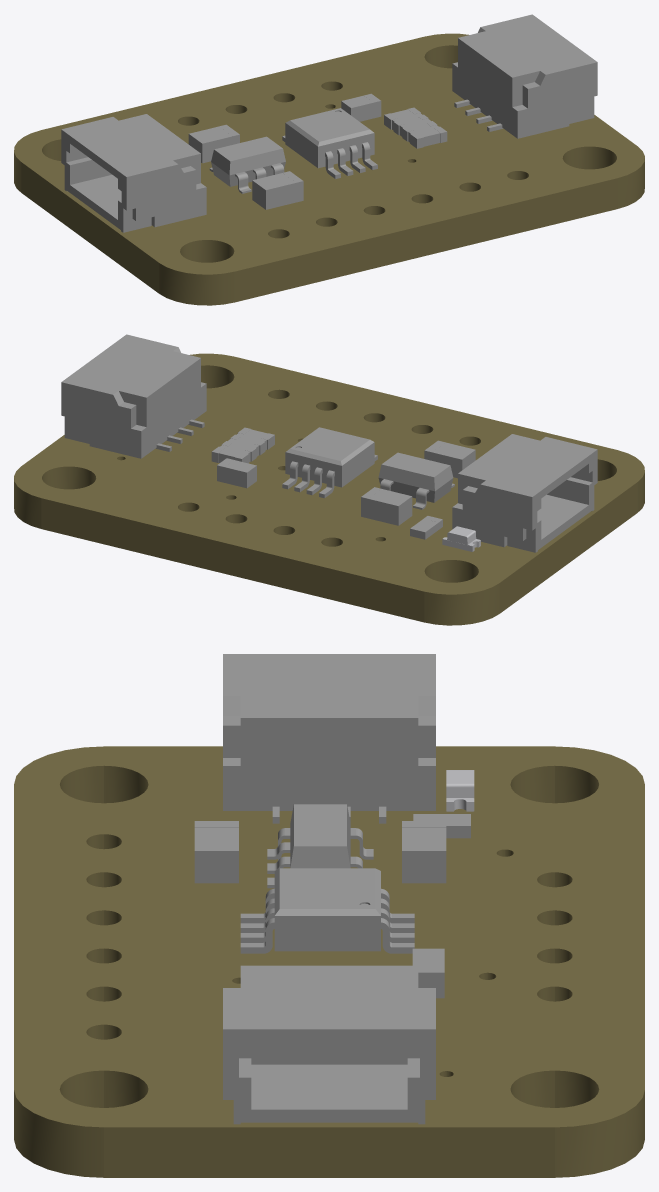
The model's file is ada-4808.glb.
3 views of the same model, one above another, from view 1: azimuth 30°, elevation 25°; view 2: azimuth 150°, elevation 25°; view 3: azimuth 270°, elevation 25° (orthographic). The views are drawn at different scales.
Visible parts, largest first — view 1: 0.16666666666666666_0.16666666666666666_0.08333333333333333_, 0.3333333333333333_0.3333333333333333_0.3333333333333333_0; view 2: 0.16666666666666666_0.16666666666666666_0.08333333333333333_, 0.3333333333333333_0.3333333333333333_0.3333333333333333_0, 0.5833333333333334_0.5833333333333334_0.5833333333333334_0.8; view 3: 0.16666666666666666_0.16666666666666666_0.08333333333333333_, 0.3333333333333333_0.3333333333333333_0.3333333333333333_0, 0.5833333333333334_0.5833333333333334_0.5833333333333334_0.8.
Part boxes in pixels (x1=…): 0.16666666666666666_0.16666666666666666_0.08333333333333333_: x1=14, y1=33, x2=644, y2=305; 0.3333333333333333_0.3333333333333333_0.3333333333333333_0: x1=61, y1=14, x2=597, y2=232; 0.16666666666666666_0.16666666666666666_0.08333333333333333_: x1=14, y1=353, x2=644, y2=625; 0.3333333333333333_0.3333333333333333_0.3333333333333333_0: x1=61, y1=334, x2=597, y2=552; 0.5833333333333334_0.5833333333333334_0.5833333333333334_0.8: x1=442, y1=526, x2=480, y2=551; 0.16666666666666666_0.16666666666666666_0.08333333333333333_: x1=14, y1=746, x2=644, y2=1177; 0.3333333333333333_0.3333333333333333_0.3333333333333333_0: x1=194, y1=654, x2=470, y2=1124; 0.5833333333333334_0.5833333333333334_0.5833333333333334_0.8: x1=446, y1=770, x2=474, y2=811.
Size of the model in its own units: 2.54 by 0.4529 by 1.78.
